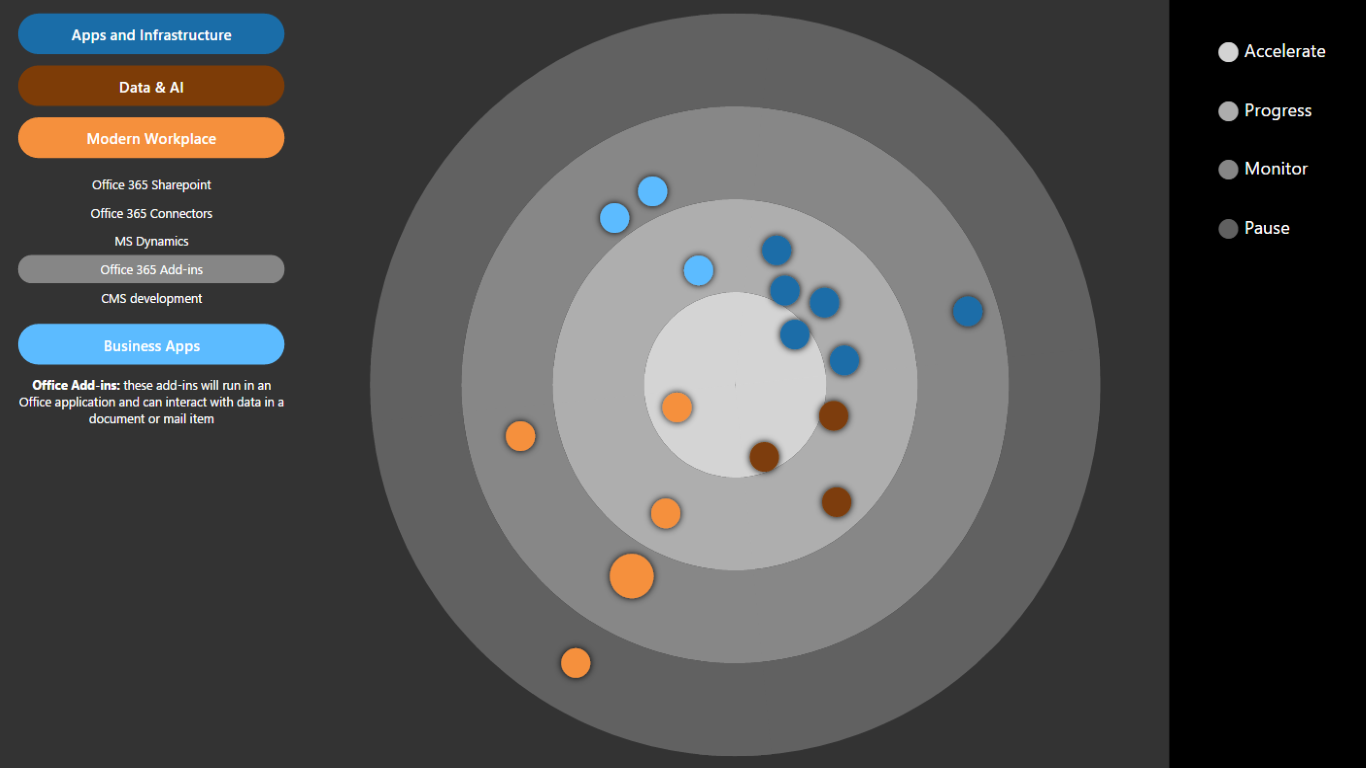

This screenshot's page, from the dashboard's own definition file:
{"tool":"powerbi","page":{"name":"Page 1","canvas":[1280,720],"ordinal":0},"visuals":[{"type":"radarCFE3A42CE23743BD8E313C30A2483BCA","fields":{"description":["points.description"],"name":["points.name"],"ring":["points.ring"],"sector":["points.sector"]},"box":[0.9,0.9,1278.2,718.3],"z":1}]}

Visuals, with their boxes in screenshot pixels (x1, y1, x2, y2), scaled from the page's 1280x720 canvas onto the 1366x768 screenshot:
radarCFE3A42CE23743BD8E313C30A2483BCA - points.description x points.name: 1, 1, 1365, 767
